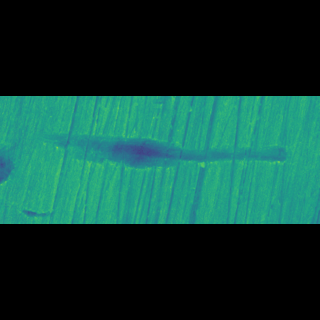Loch: (39, 146, 293, 164)
